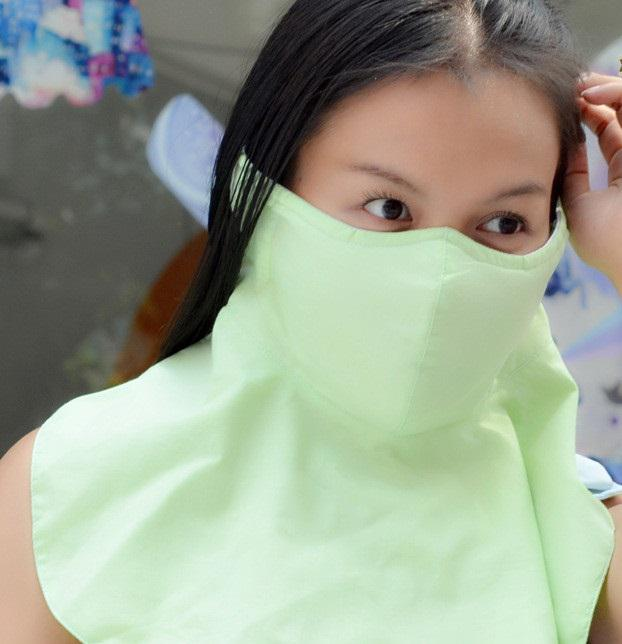OK: (302, 142, 559, 440)
